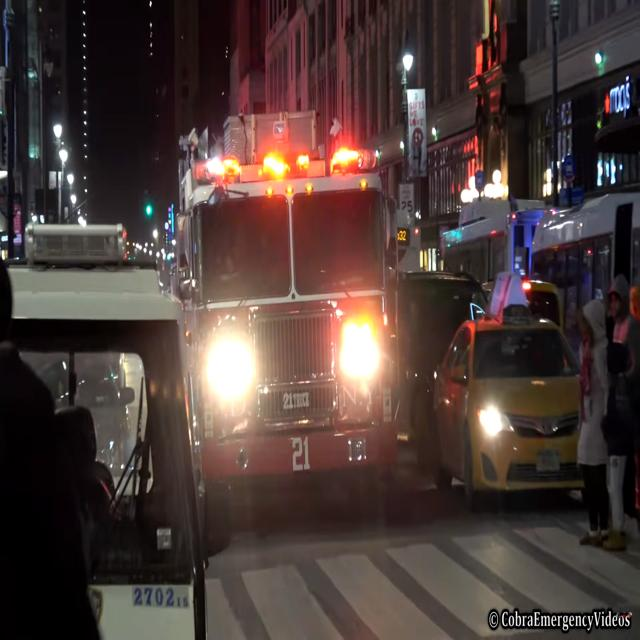emergency-vehicles: (153, 108, 431, 543)
